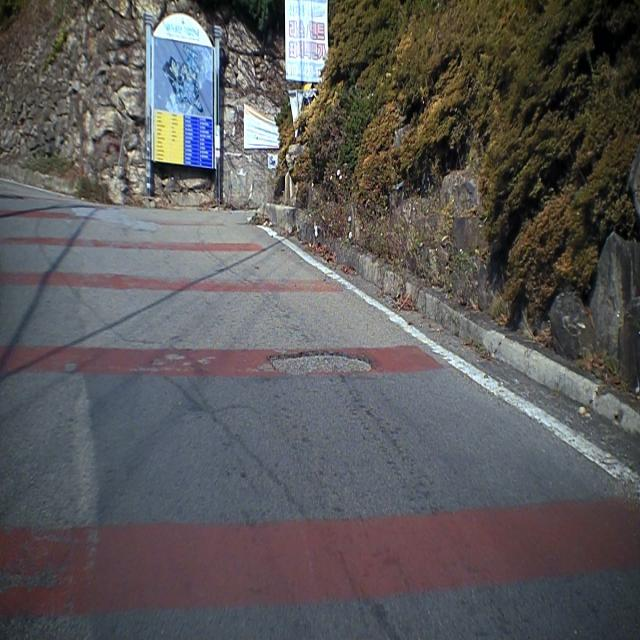Pothole: (265, 340, 380, 386)
